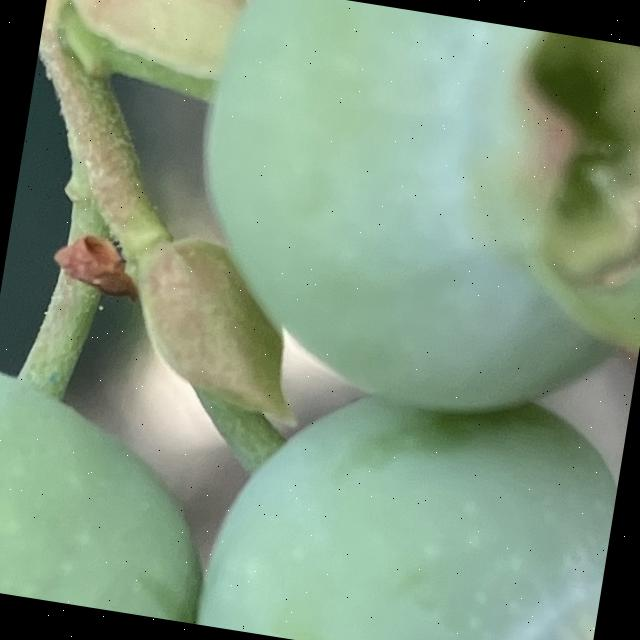Blueberries: (161, 0, 640, 435), (195, 362, 627, 640)
